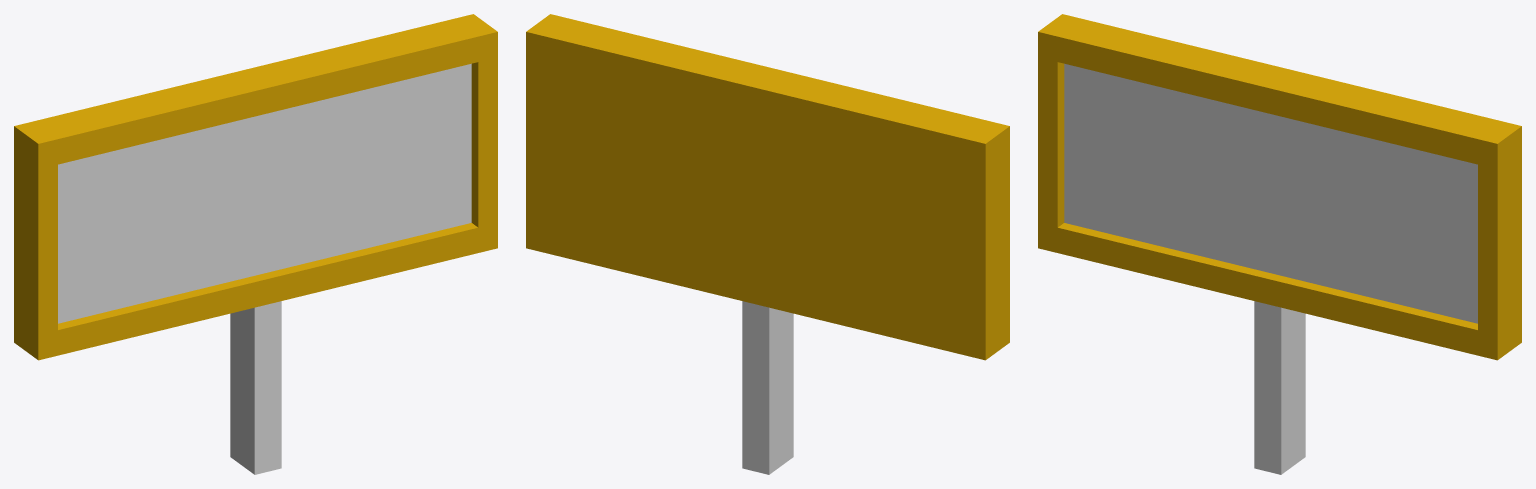
The model's file is signPost.fbx.
The picture shows the model from 3 angles, left to right: view 1: azimuth 30°, elevation 25°; view 2: azimuth 150°, elevation 25°; view 3: azimuth 330°, elevation 25°; orthographic projection.
Parts seen in each view (by area): view 1: pCube3; view 2: pCube3; view 3: pCube3.
Part boxes in pixels (box(x1,y1,x2,y2)): pCube3: box(14, 14, 497, 474); pCube3: box(526, 14, 1009, 474); pCube3: box(1038, 14, 1521, 474).
Bounding box in the file's own units: 6.34 × 5.06 × 0.5821.
